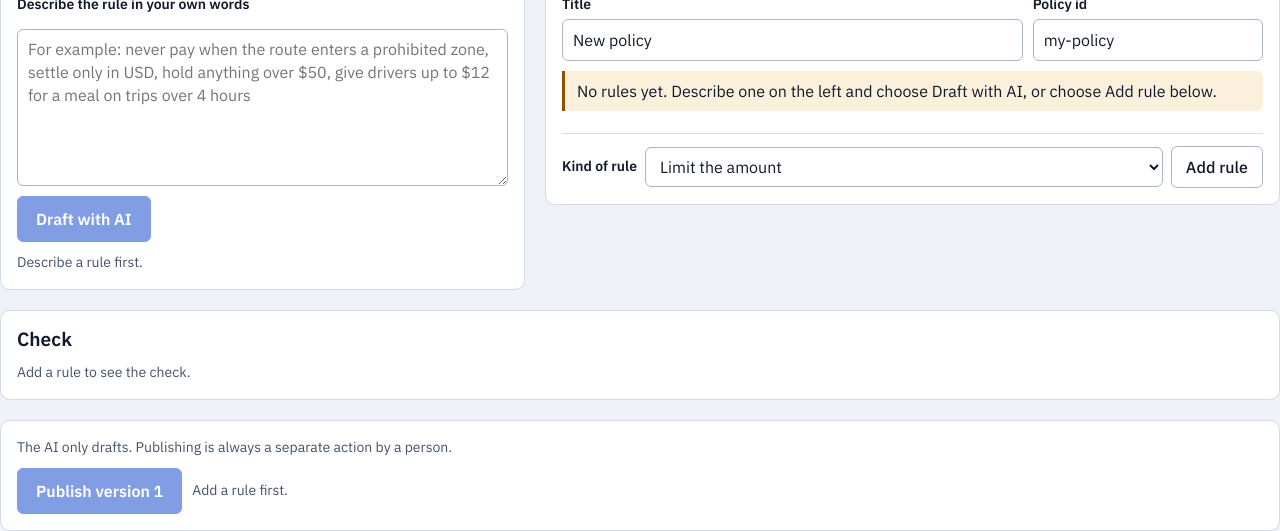
Test case: AuthorView › keeps publish disabled while invalid, then confirms before publishing
Expected: the button "Publish version 1" is disabled, [17,468,182,514]
Select "Allowed currencies" in the dropdown labelled "Kind of rule". click: coordinates (904, 167)
box: [645,147,1163,187]
Click the button "Add rule". click: coordinates (1217, 167)
box: [1171,146,1263,188]
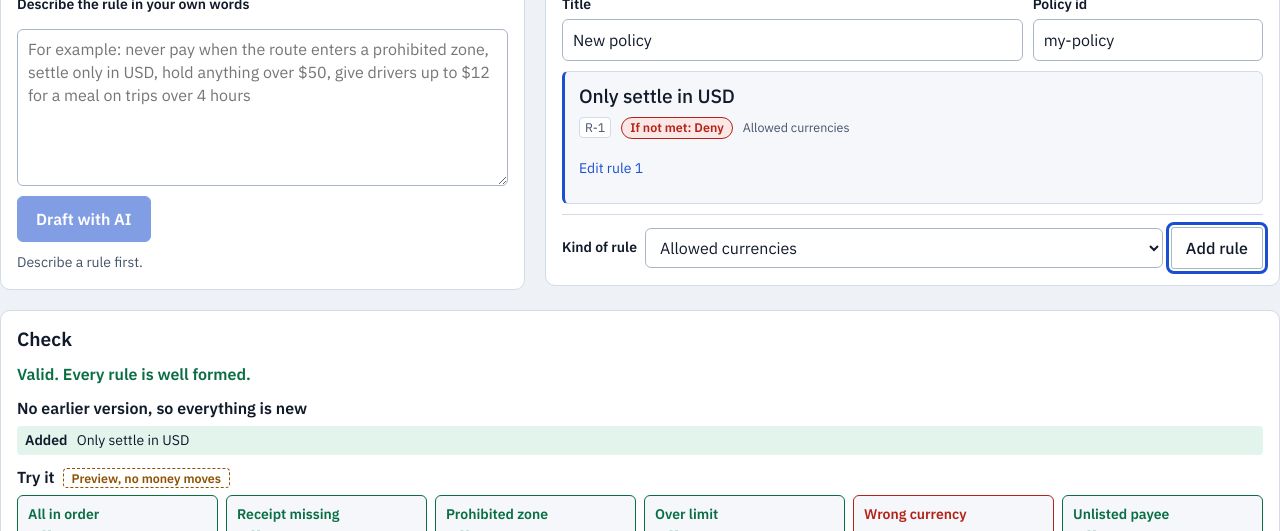
Click the heading "Edit rule 1". click: coordinates (611, 168)
box: [579,159,643,177]
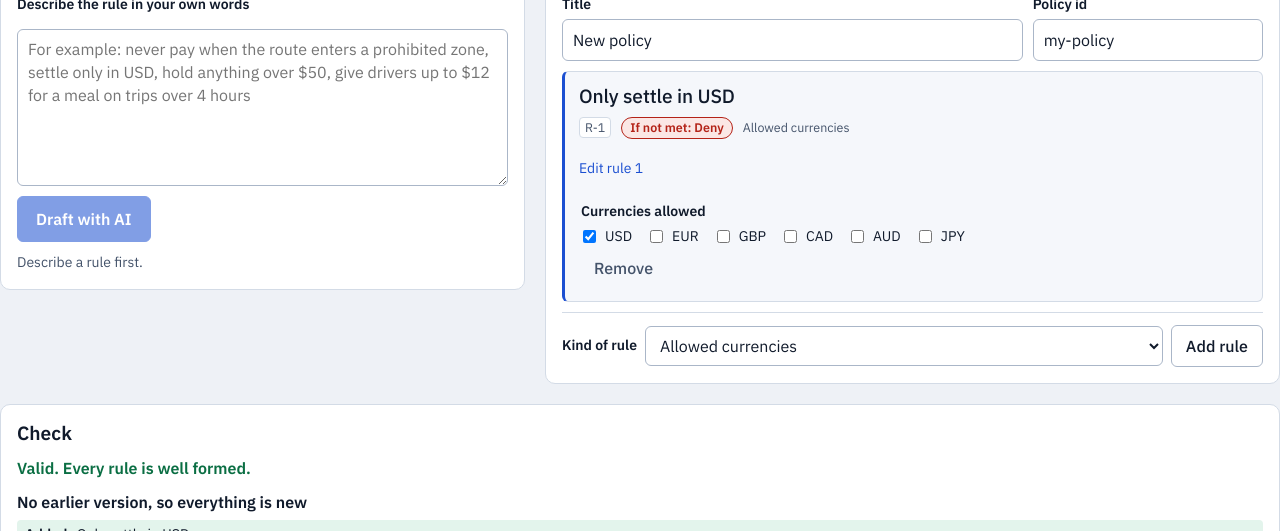
Click the checkbox labelled "USD". click: coordinates (590, 236)
box: [583,230,596,243]
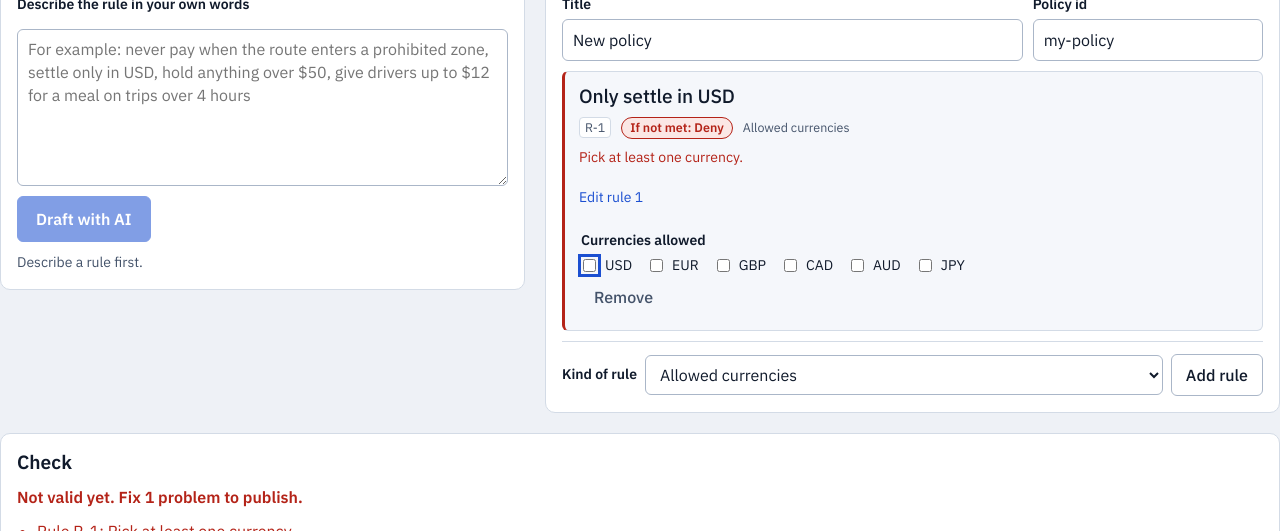
Expected: the text "Pick at least one currency." is shown, [579,148,743,166]
Click the checkbox labelled "USD". click: coordinates (590, 265)
box: [583,259,596,272]
(page scrolled)
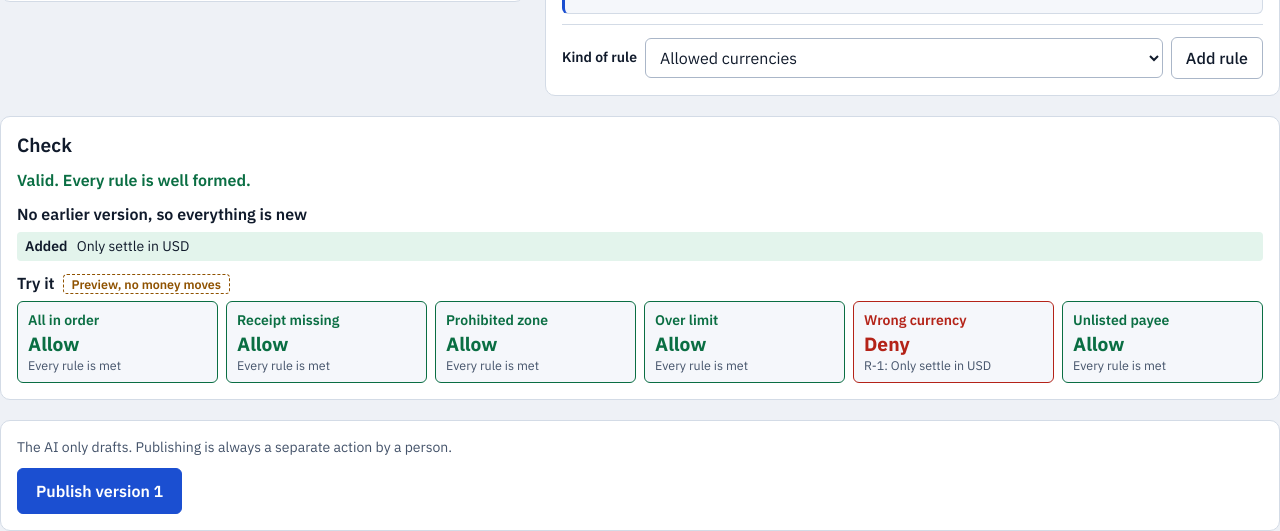
Expected: the button "Publish version 1" is enabled
Click the button "Publish version 1". click: coordinates (100, 491)
box: [17,468,182,514]
(page scrolled)
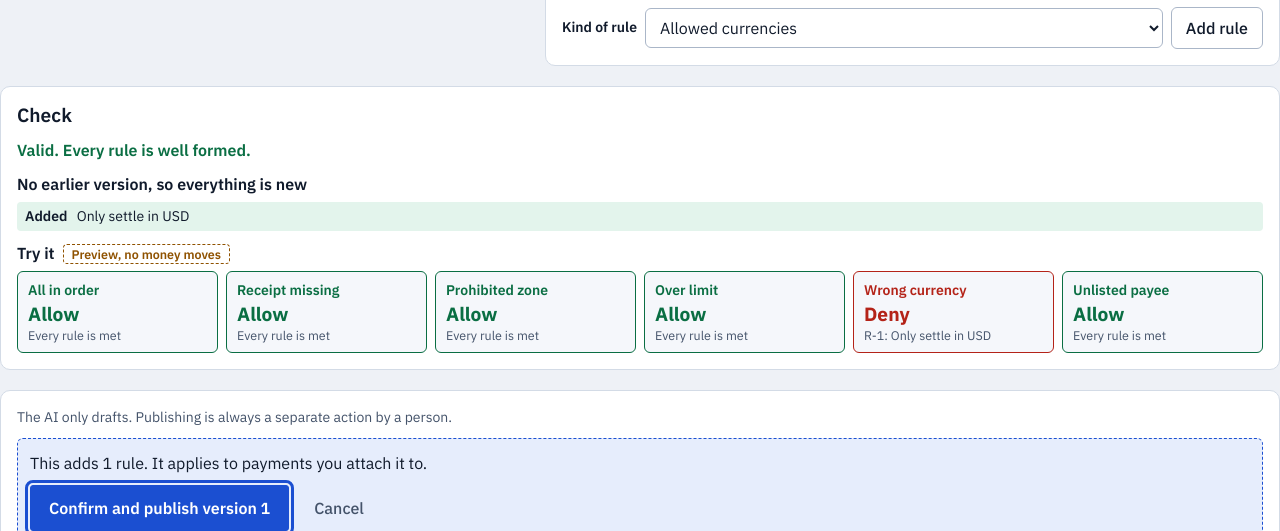
Expected: the text "This adds 1 rule. It applies to payments you attach it to." is shown, [30,453,427,473]
Click the button "Confirm and publish version 1". click: coordinates (160, 508)
box: [30,485,289,530]
(page scrolled)
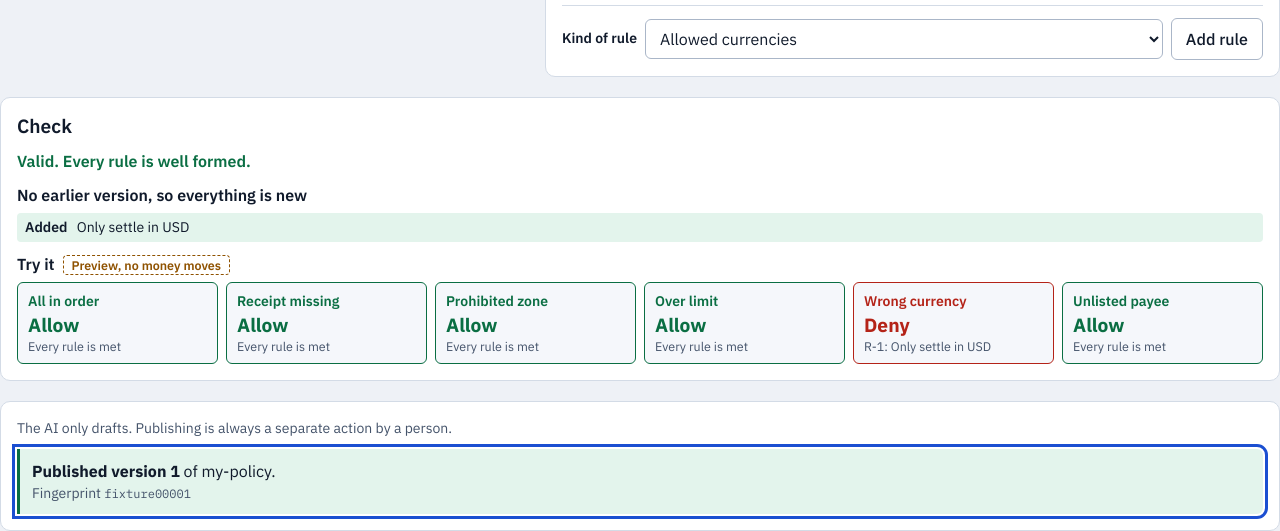
Expected: the text "Published version 1" is shown, [32,461,180,481]
